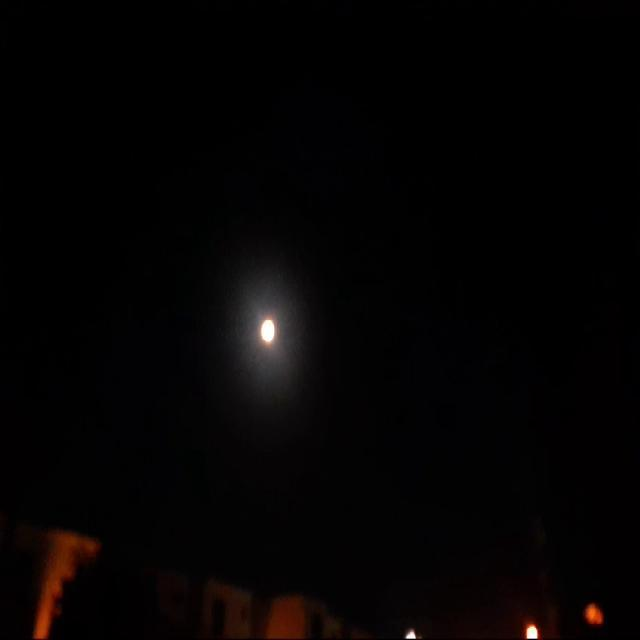moon: (258, 294, 280, 334)
